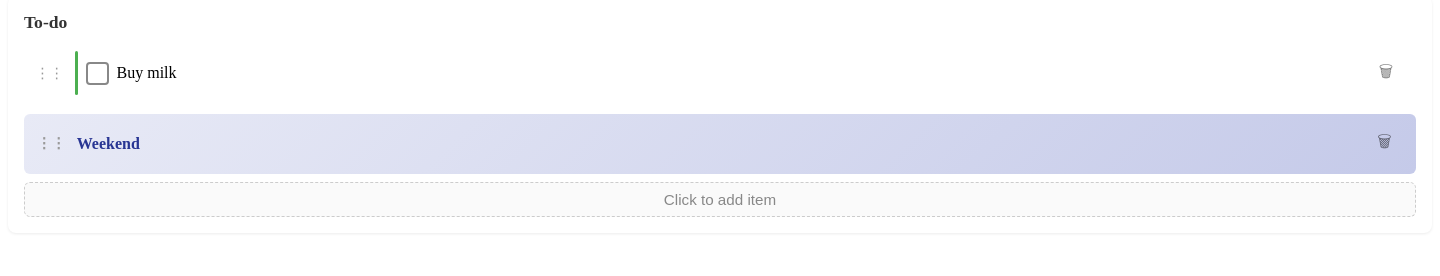
Scenario: TodoList delete flow › shows an error banner when delete fails
The width and height of the screenshot is (1440, 276).
Expected: the button "Buy milk" is shown, [116,64,176,81]
What coordinates should you click on to do the following:
click the button named "Delete"
I would click on:
 (1386, 73)
Its box is [1364,51,1408,95].
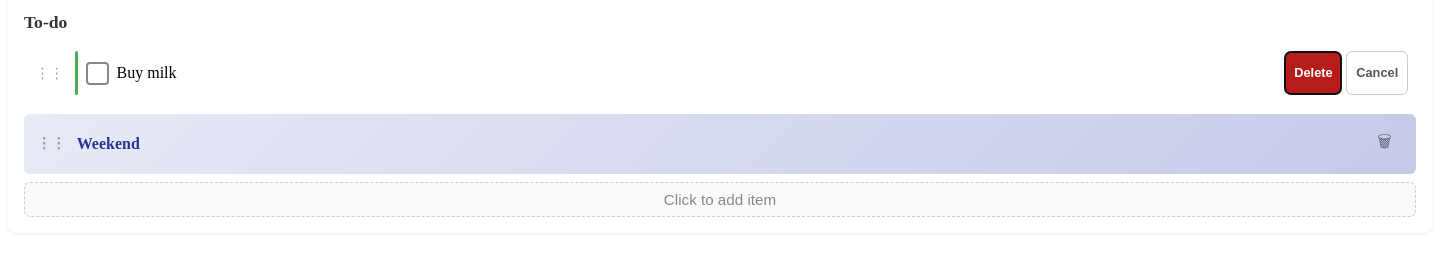
What coordinates should you click on to do the following:
click the button with aria-label "Confirm delete"
I would click on:
 (1313, 73)
Its box is [1284,51,1342,95].
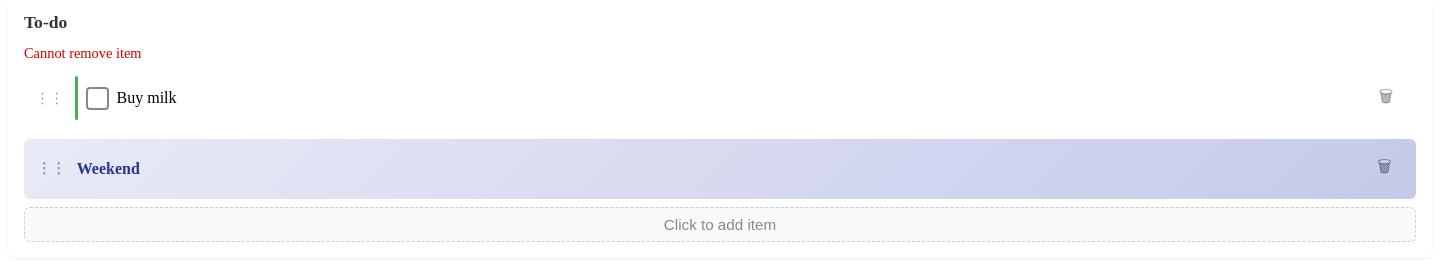
Expected: the button "Buy milk" is shown, [116,89,176,106]
Expected: the text "Cannot remove item" is shown, [24,45,142,61]
